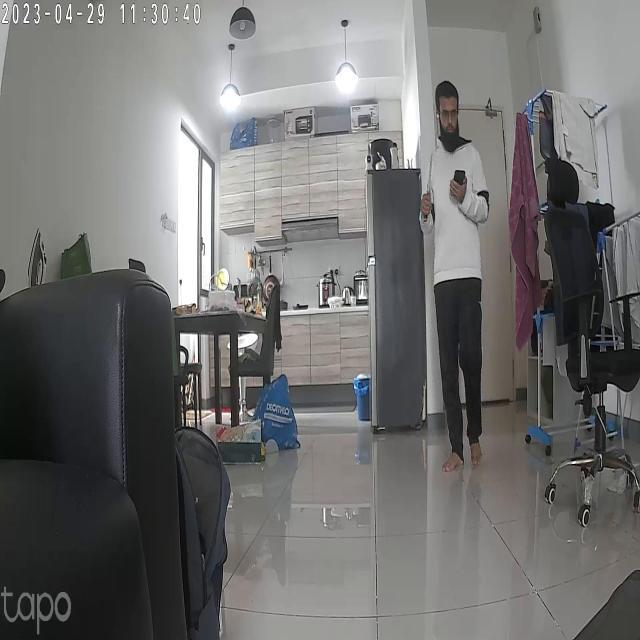Knife: (422, 147, 445, 215)
